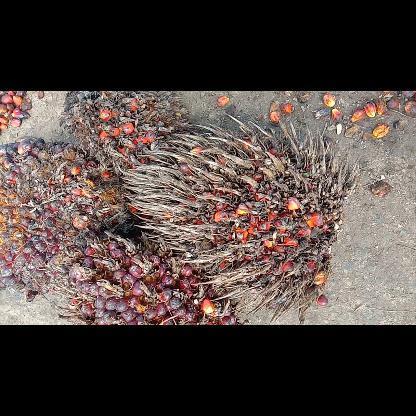TBS masak: (0, 137, 138, 297), (52, 230, 237, 324)
Terlalu masak: (122, 113, 358, 324), (60, 90, 188, 172)
